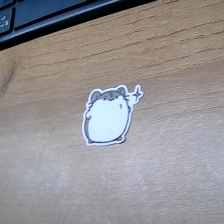mouse: (82, 82, 142, 147)
